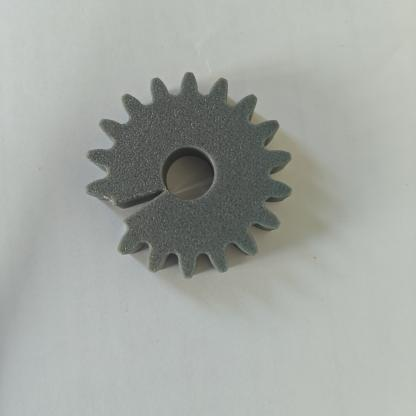defect: (74, 169, 198, 246)
gear: (61, 66, 309, 292)
